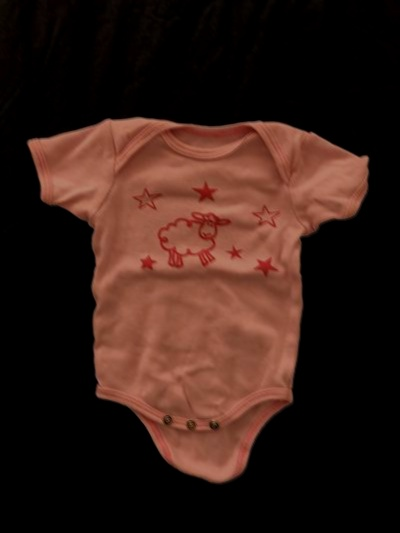Body: (21, 96, 379, 481)
